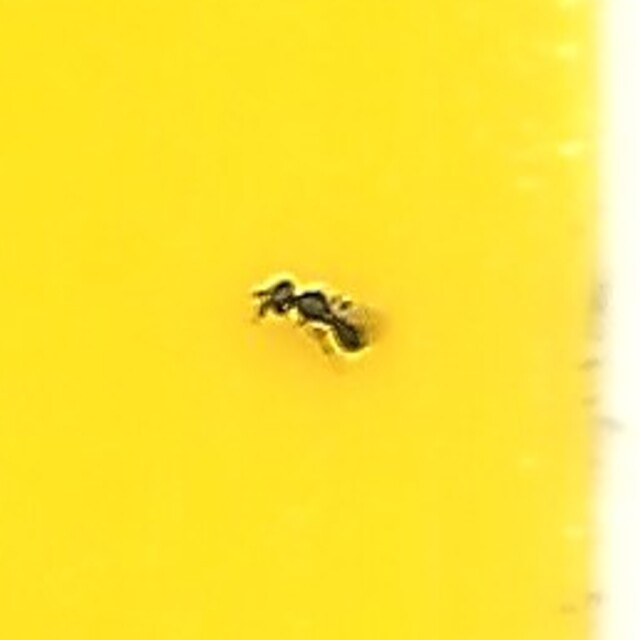Hymenoptera: (248, 271, 392, 369)
